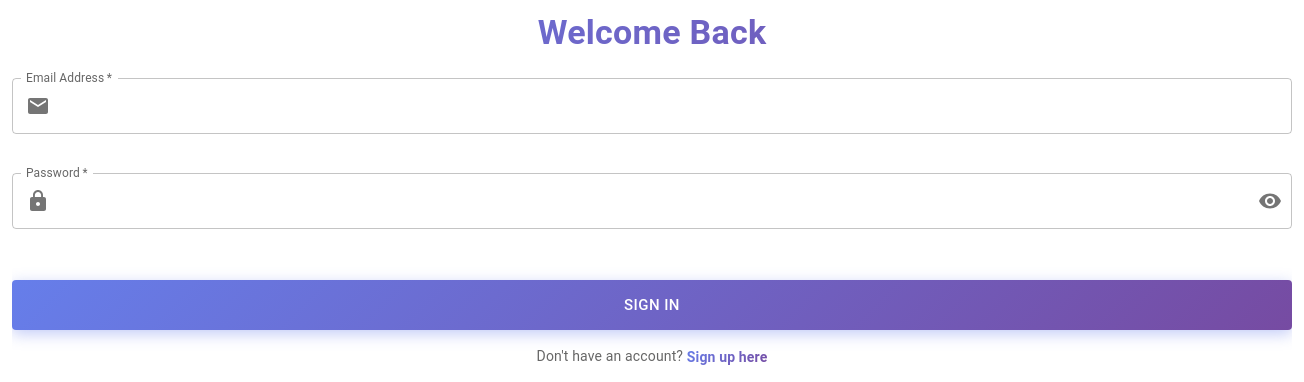
Test case: ModernLoginForm › Form Validation › should show error for invalid email on blur
Type "invalid-email" into the field labelled "Email Address *" at (675, 106), box x1=58 y1=78 x2=1292 y2=134
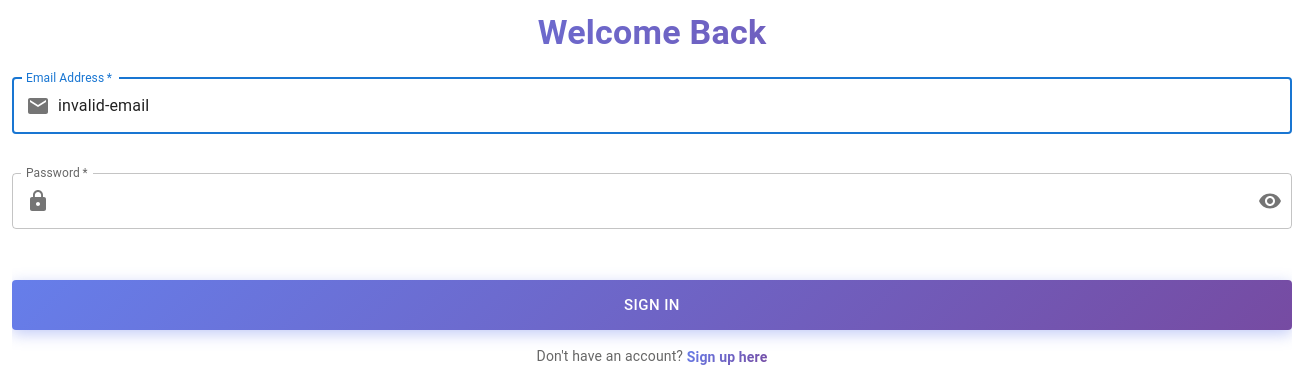
Press Tab
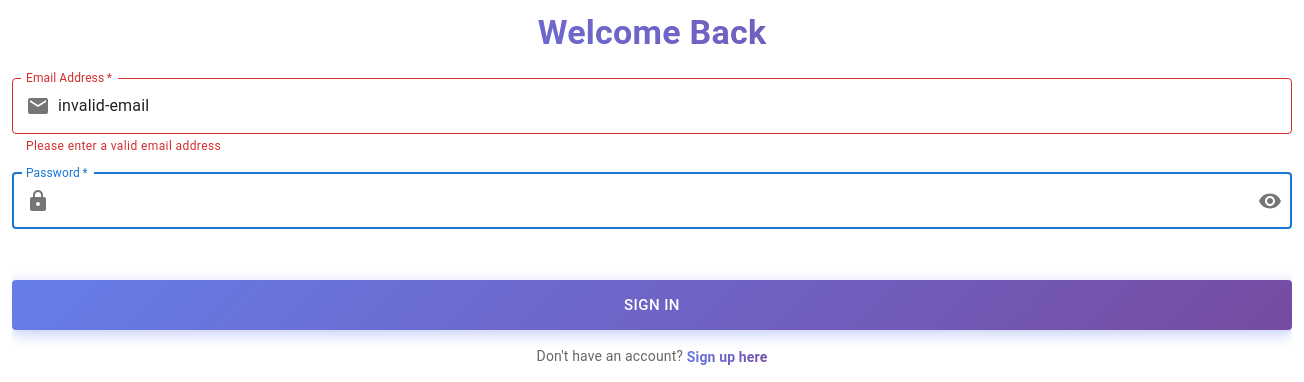
Check: the text "Please enter a valid email address" is shown, box x1=26 y1=139 x2=221 y2=153
